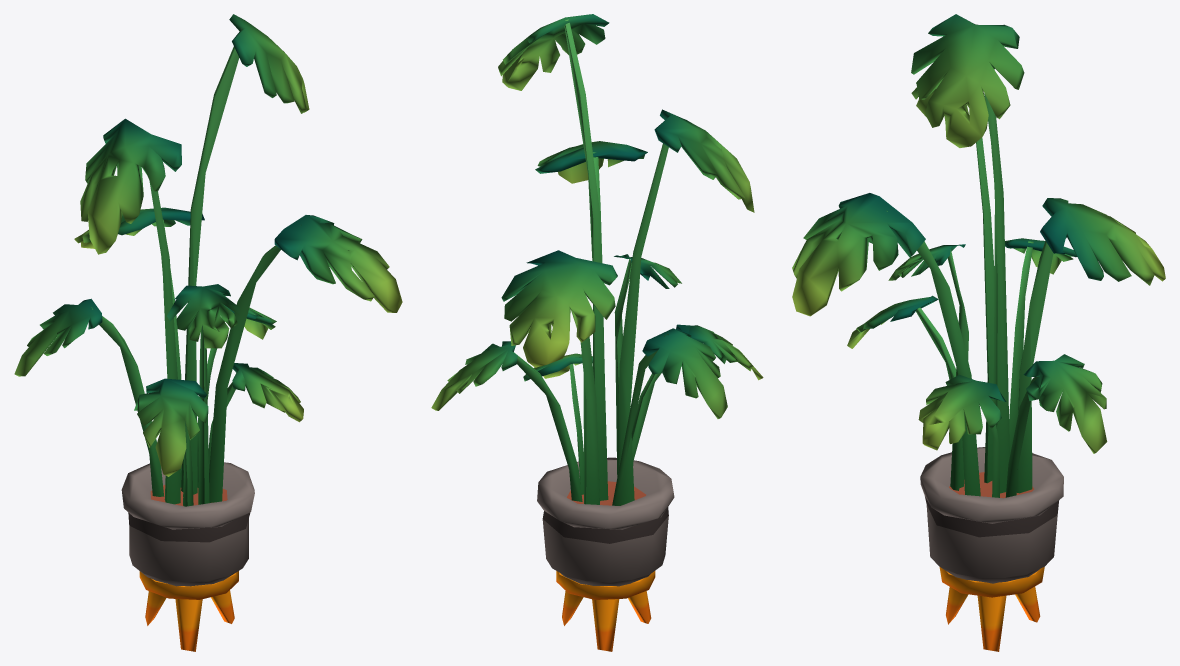
File: plant.glb
The picture shows the model from 3 angles, left to right: view 1: azimuth 30°, elevation 25°; view 2: azimuth 150°, elevation 25°; view 3: azimuth 270°, elevation 25°; orthographic projection. The views are drawn at different scales.
Parts seen in each view (by area): view 1: Plant.001; view 2: Plant.001; view 3: Plant.001.
Part boxes in pixels (<box>): Plant.001: <box>14,14,402,651</box>; Plant.001: <box>431,14,763,651</box>; Plant.001: <box>792,14,1165,651</box>.
Bounding box in the file's own units: 1.12 × 2.36 × 1.26.
1 material, 1 textured.
